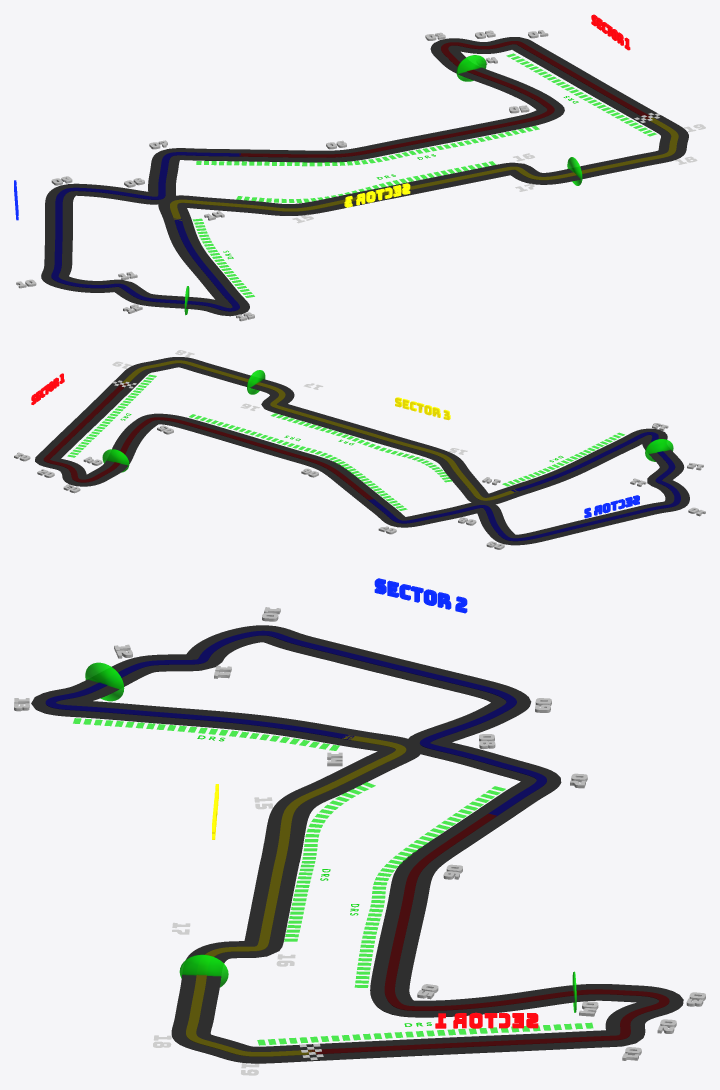
Rendered from marina_bay.gltf.
3 views of the same model, one above another, from view 1: azimuth 30°, elevation 25°; view 2: azimuth 150°, elevation 25°; view 3: azimuth 270°, elevation 25° (orthographic). The views are drawn at different scales.
Visible parts, largest first — view 1: track plane, track plane.001, track plane.004, track plane.002, DRSPlane1.002, DRSPlane1.001, DRSPlane1.003, DRSPlane1.004, Text.002; view 2: track plane, track plane.001, track plane.004, track plane.002, DRSPlane1.002, DRSPlane1.003, DRSPlane1.001, DRSPlane1.004, Text.001, Text.002, DrsDetect1.001, Text (+1 smaller); view 3: track plane, track plane.001, track plane.004, track plane.002, DRSPlane1.002, DRSPlane1.003, DRSPlane1.001, Text.001, DRSPlane1.004, Text, DrsDetect1.003, DrsDetect1.001.
Part boxes in pixels (x1,y1,x2,y2): track plane: [41, 37, 688, 316]; track plane.001: [51, 152, 241, 311]; track plane.004: [239, 41, 649, 157]; track plane.002: [170, 117, 678, 220]; DRSPlane1.002: [196, 125, 539, 166]; DRSPlane1.001: [506, 53, 656, 136]; DRSPlane1.003: [236, 161, 495, 202]; DRSPlane1.004: [192, 218, 254, 297]; Text.002: [344, 183, 410, 207]; track plane: [35, 357, 689, 545]; track plane.001: [367, 432, 680, 541]; track plane.004: [43, 383, 373, 499]; track plane.002: [122, 360, 518, 500]; DRSPlane1.002: [189, 414, 407, 510]; DRSPlane1.003: [270, 413, 452, 482]; DRSPlane1.001: [67, 374, 156, 457]; DRSPlane1.004: [502, 432, 624, 486]; Text.001: [584, 495, 639, 518]; Text.002: [395, 397, 450, 420]; DrsDetect1.001: [645, 439, 673, 461]; Text: [31, 373, 64, 404]; track plane: [31, 625, 683, 1063]; track plane.001: [45, 630, 546, 817]; track plane.004: [308, 813, 669, 1054]; track plane.002: [186, 735, 406, 1056]; DRSPlane1.002: [354, 786, 505, 987]; DRSPlane1.003: [284, 782, 375, 941]; DRSPlane1.001: [257, 1022, 593, 1045]; Text.001: [374, 578, 467, 613]; DRSPlane1.004: [73, 718, 339, 750]; Text: [435, 1012, 538, 1028]; DrsDetect1.003: [179, 954, 228, 987]; DrsDetect1.001: [85, 662, 124, 701].
Size of the model in its own units: 106 by 7.57 by 66.55.
